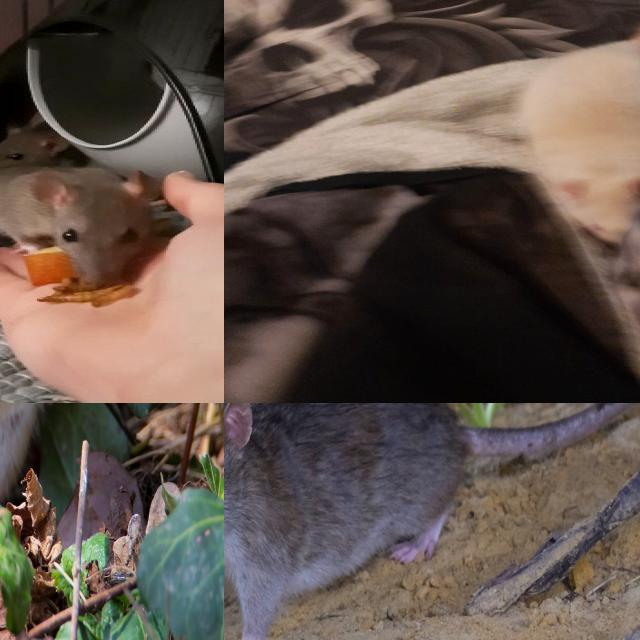rat: (224, 403, 460, 640), (529, 43, 640, 246), (0, 167, 163, 284)
